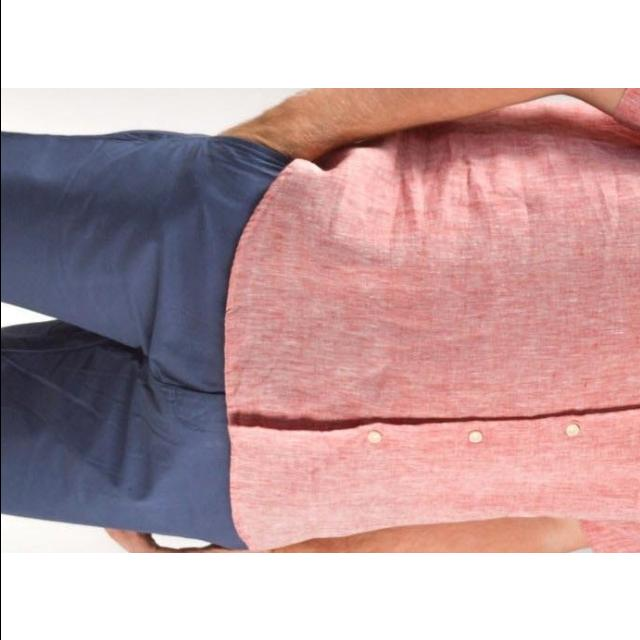linen: (230, 88, 640, 552)
